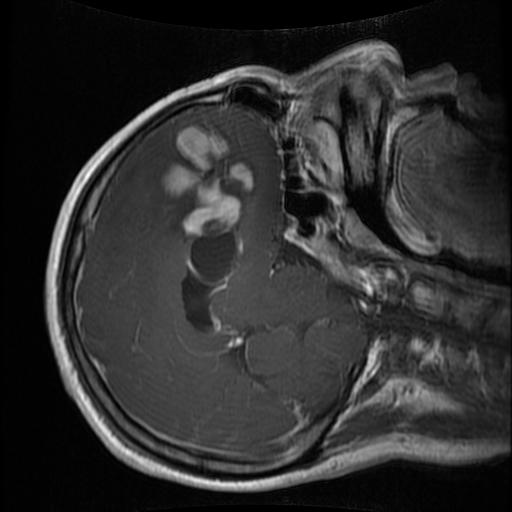glioma: (163, 123, 256, 336)
